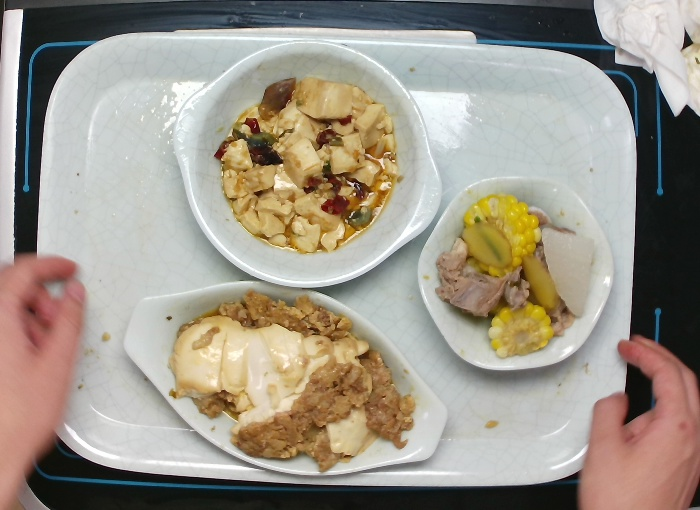JYsf-Shuang_Er_Wan: (169, 36, 446, 292)
JYsf-Yu_Pan: (120, 276, 453, 479)
WCQzf-Hua_Duo_Wan: (413, 172, 618, 373)
